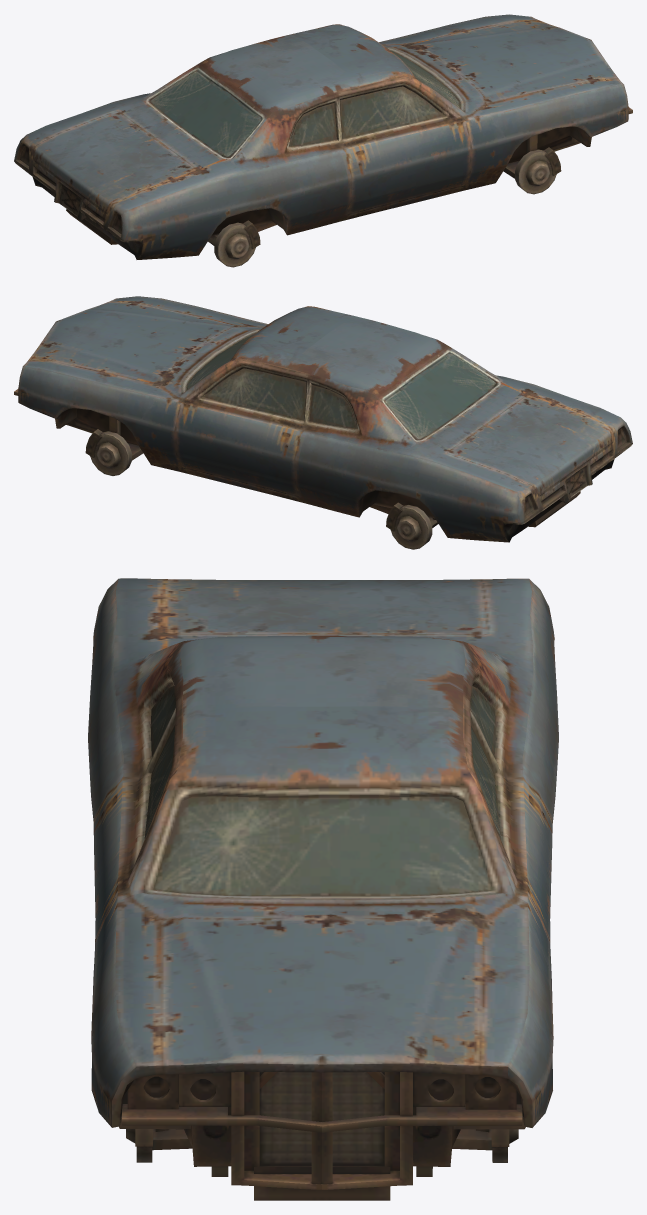
The model's file is ItemSpot.fbx.
3 views of the same model, one above another, from view 1: azimuth 30°, elevation 25°; view 2: azimuth 150°, elevation 25°; view 3: azimuth 270°, elevation 25° (orthographic). The views are drawn at different scales.
Visible parts, largest first — view 1: Common_OBJ_WreckCar_Blue; view 2: Common_OBJ_WreckCar_Blue; view 3: Common_OBJ_WreckCar_Blue.
Boxes of the visible parts, bbox=[...] form: Common_OBJ_WreckCar_Blue: bbox=[14, 14, 632, 267]; Common_OBJ_WreckCar_Blue: bbox=[14, 296, 632, 549]; Common_OBJ_WreckCar_Blue: bbox=[88, 578, 558, 1200].
Size of the model in its own units: 5.19 by 1.36 by 2.02.
1 material, 1 textured.
